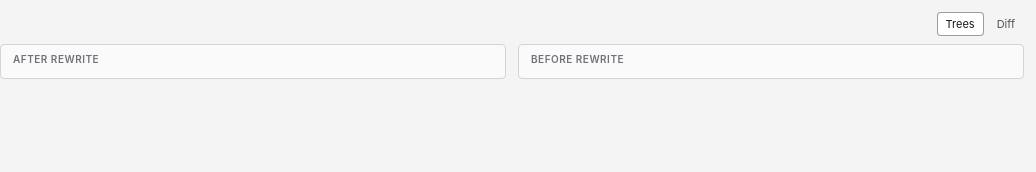
Test: JsonBeforeAfter › switches between the trees and the diff
Expected: the text "After rewrite" is shown, [13,53,99,66]
Expected: the text "Before rewrite" is shown, [531,53,624,66]
Click the button "Diff" at (1006, 24), box [988,12,1024,36]
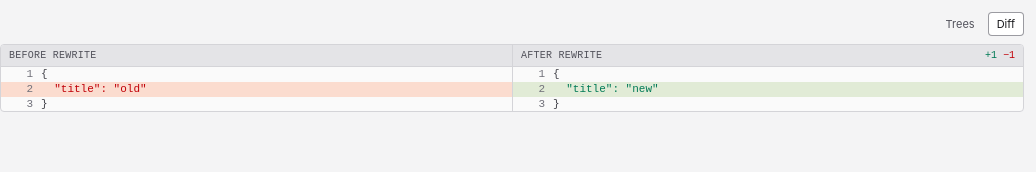
Result: the table is shown at [0,44,1024,112]
Result: the text "\"title\": \"old\"" is shown at [41,82,147,97]
Result: the text "\"title\": \"new\"" is shown at [553,82,659,97]
Click the button "Trees" at (960, 24), box [937,12,984,36]
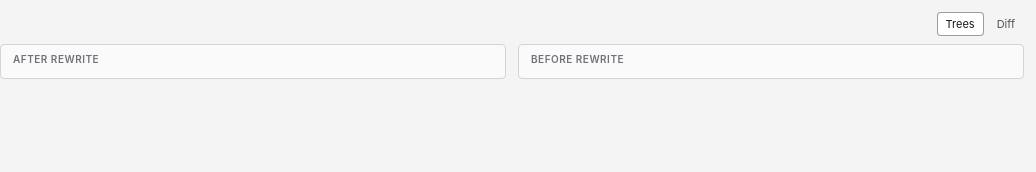
Result: the table is gone
